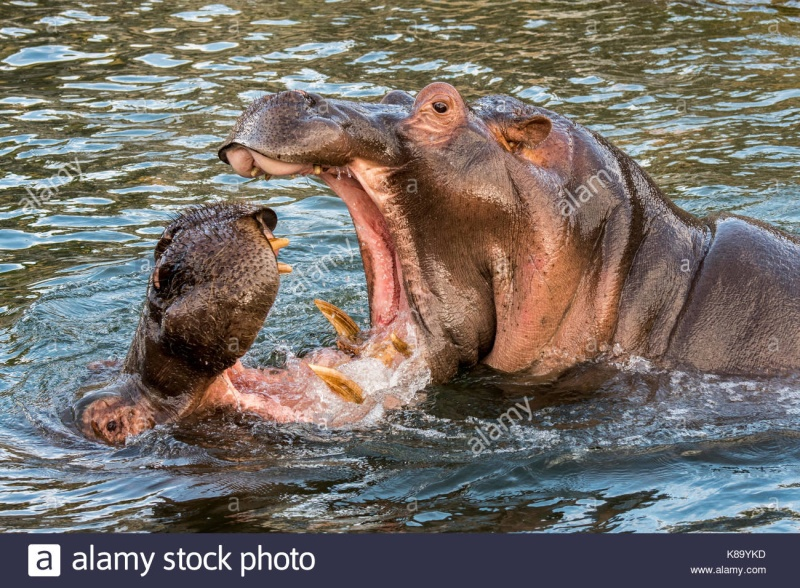hipopotamo: (214, 77, 782, 385)
